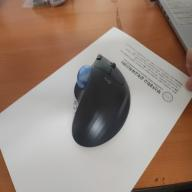mouse: (73, 52, 130, 146)
